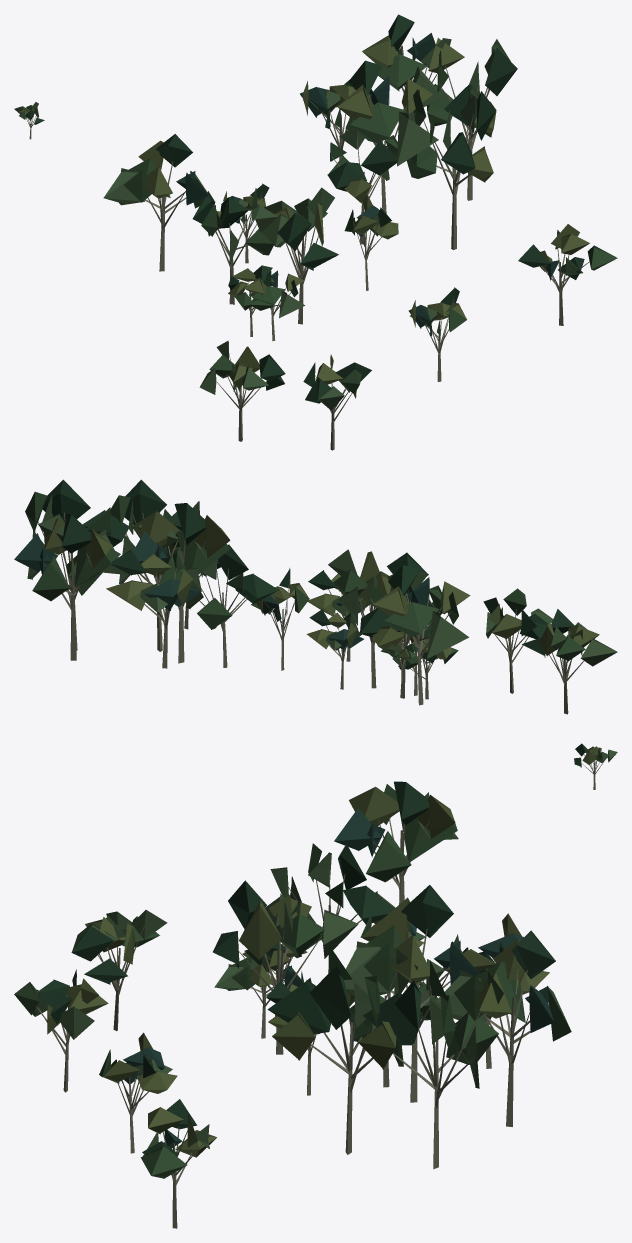
File: forest_22_21.dae
3 renders of one model, top to bottom at view 1: azimuth 30°, elevation 25°; view 2: azimuth 150°, elevation 25°; view 3: azimuth 270°, elevation 25°, orthographic. The views are drawn at different scales.
Parts seen in each view (by area): view 1: Node; view 2: Node; view 3: Node.
Part boxes in pixels (bbox=[...]): Node: bbox=[14, 14, 617, 450]; Node: bbox=[14, 479, 617, 714]; Node: bbox=[14, 743, 617, 1228].
Bounding box in the file's own units: 10.3 × 9.42 × 5.44.
